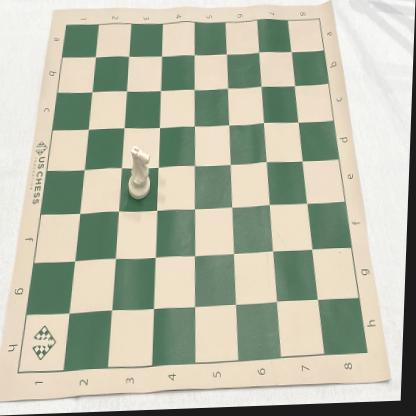white-knight: (128, 145, 154, 202)
